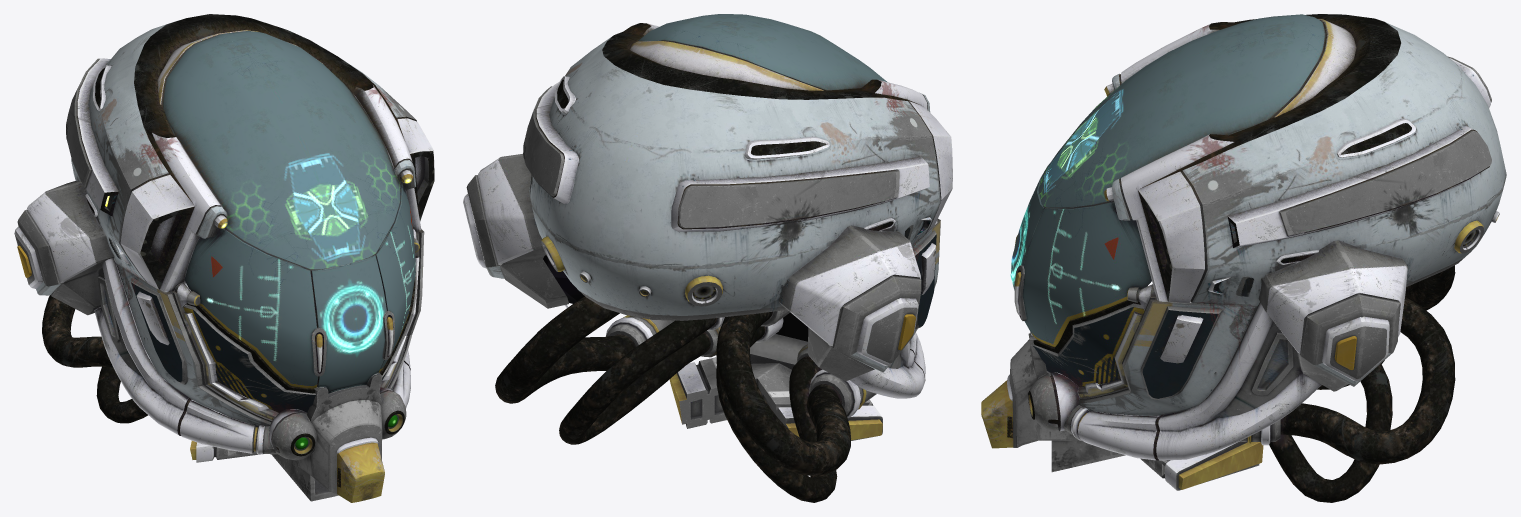
File: headphones.glb
3 renders of one model, left to right at view 1: azimuth 30°, elevation 25°; view 2: azimuth 150°, elevation 25°; view 3: azimuth 270°, elevation 25°, orthographic. The views are drawn at different scales.
Parts seen in each view (by area): view 1: node_damagedHelmet_-6514; view 2: node_damagedHelmet_-6514; view 3: node_damagedHelmet_-6514.
Boxes of the visible parts, x1,y1,x2,y2 form: node_damagedHelmet_-6514: (14,14,434,502); node_damagedHelmet_-6514: (463,14,952,502); node_damagedHelmet_-6514: (981,14,1506,502).
Bounding box in the file's own units: 1.89 × 1.8 × 2.
Materials: 1 (1 with a texture image).
